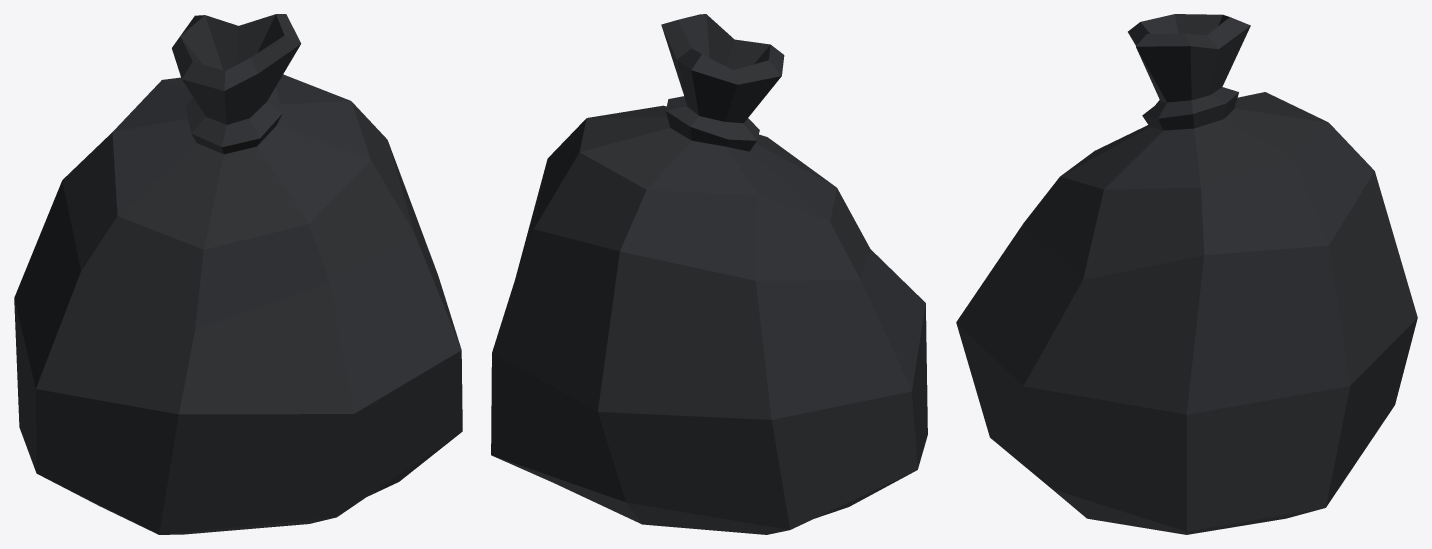
File: SM_Prop_TrashBag_01.fbx
3 views of the same model, side by side, from view 1: azimuth 30°, elevation 25°; view 2: azimuth 150°, elevation 25°; view 3: azimuth 270°, elevation 25° (orthographic).
Visible parts, largest first — view 1: SM_Prop_TrashBag_01; view 2: SM_Prop_TrashBag_01; view 3: SM_Prop_TrashBag_01.
Part boxes in pixels (bbox=[...]): SM_Prop_TrashBag_01: bbox=[14, 14, 462, 534]; SM_Prop_TrashBag_01: bbox=[491, 14, 927, 534]; SM_Prop_TrashBag_01: bbox=[956, 14, 1417, 534].
Size of the model in its own units: 68.51 by 72.02 by 67.17.
